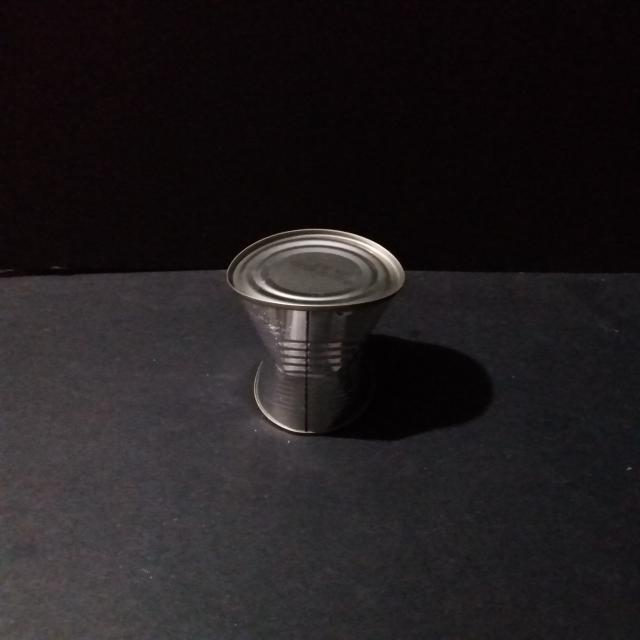metal: (218, 224, 410, 438)
